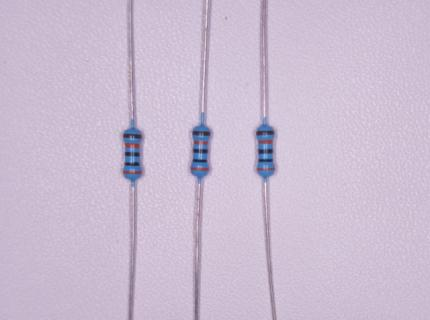Black band: (258, 149, 273, 154), (125, 152, 139, 157), (125, 162, 141, 166), (193, 159, 208, 163), (194, 149, 209, 153), (258, 159, 273, 162)
Brown band: (123, 134, 141, 139), (192, 131, 210, 136), (257, 131, 275, 136)
Orange band: (191, 167, 209, 172), (123, 170, 142, 174), (125, 144, 139, 149), (194, 140, 208, 145), (258, 140, 273, 144), (257, 168, 275, 171)
